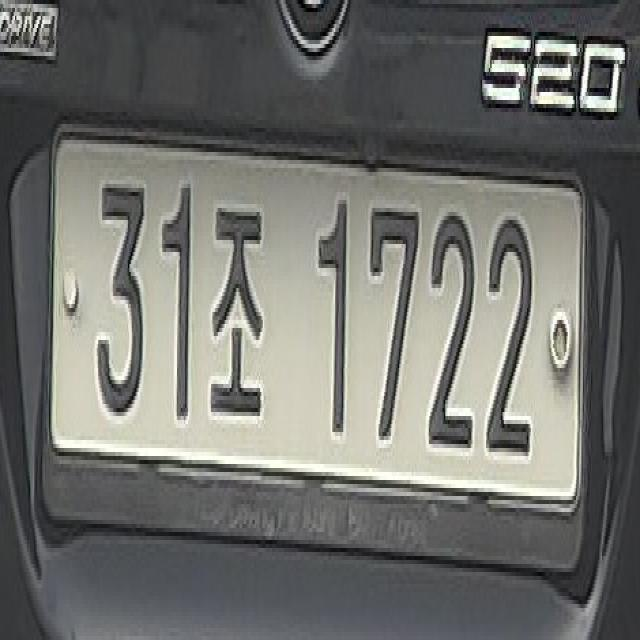1: (315, 192, 354, 432), (162, 176, 197, 420)
2: (484, 200, 535, 468), (425, 208, 474, 456)
3: (92, 168, 152, 420)
7: (366, 200, 421, 444)
jo: (208, 196, 267, 424)
license_plate: (48, 116, 584, 524)
